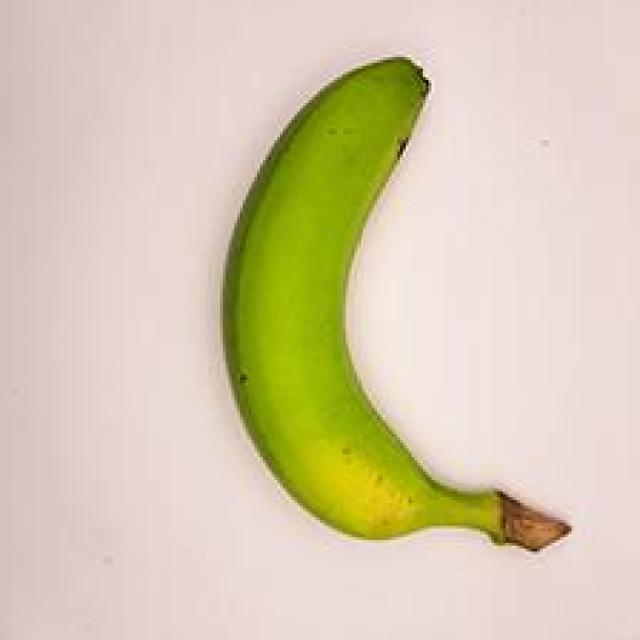Unripe: (177, 36, 598, 558)
